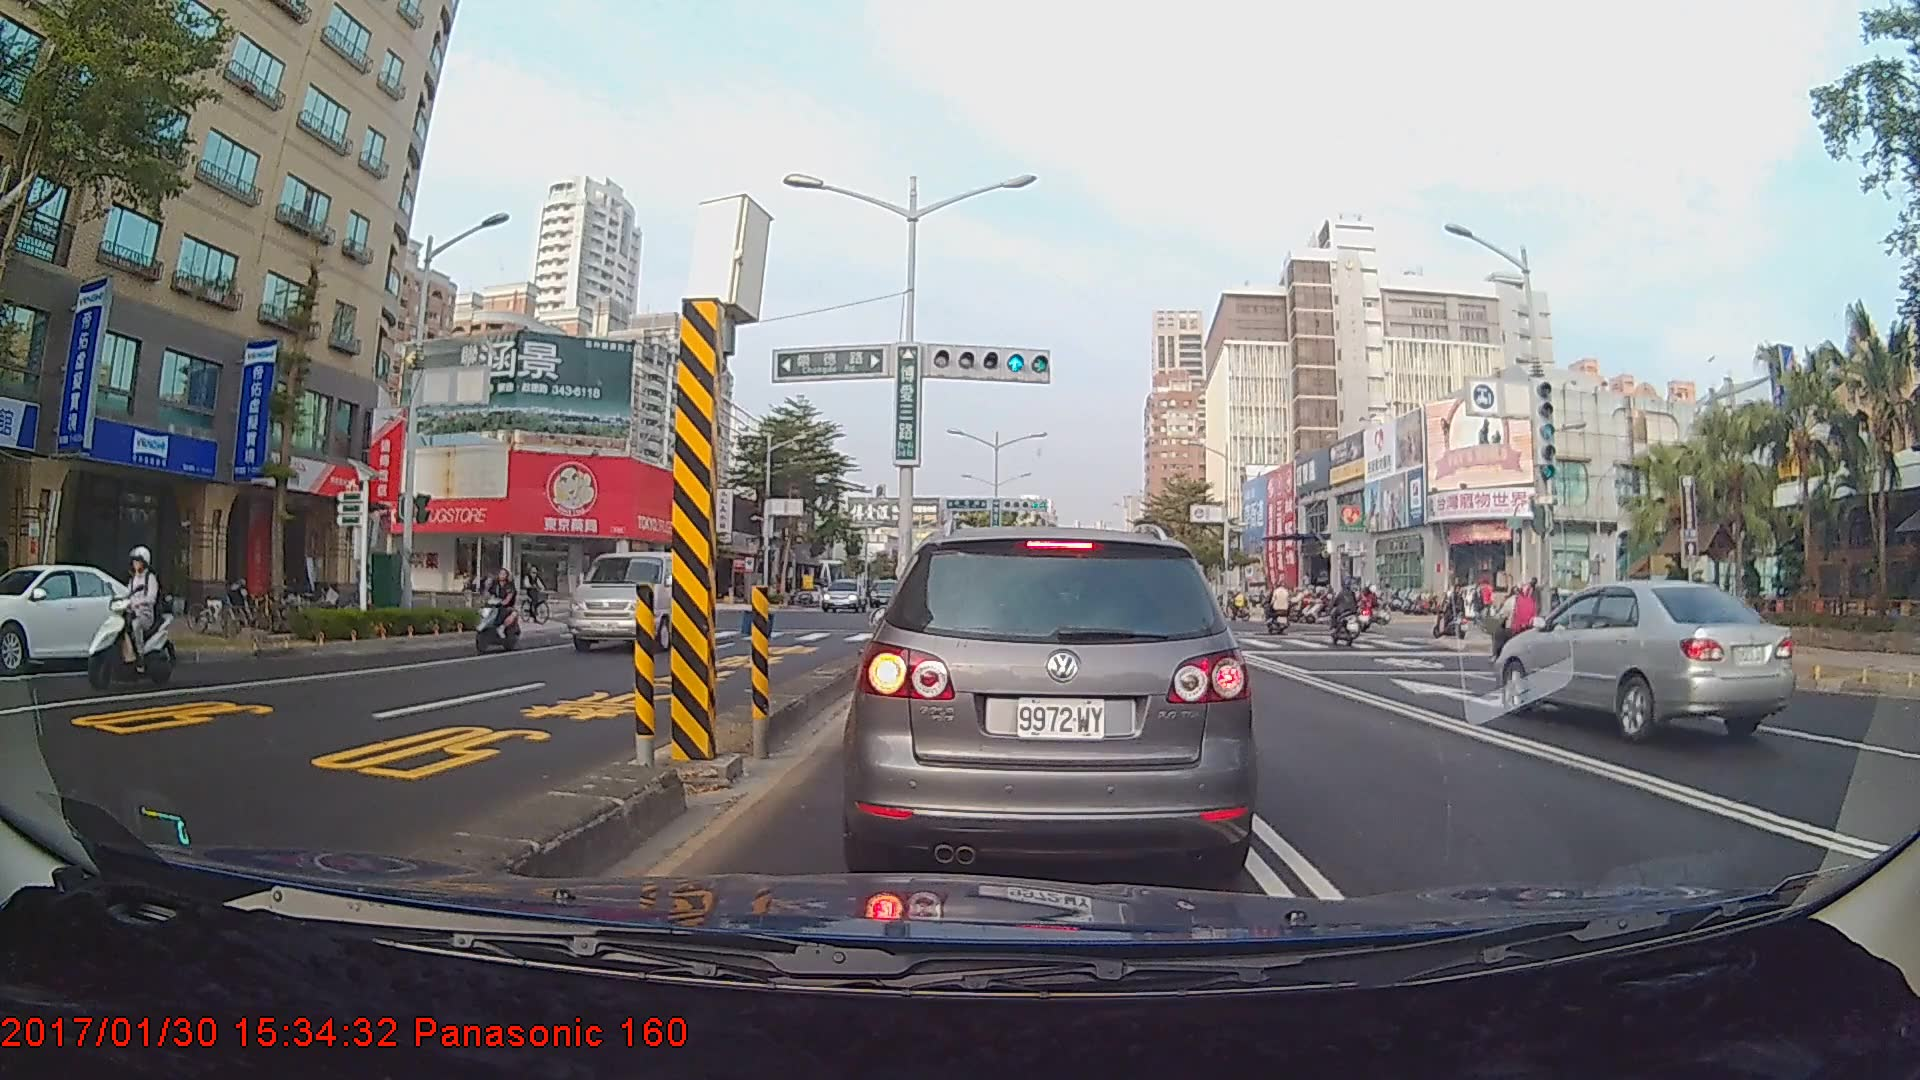rider: (80, 547, 181, 693), (1485, 582, 1548, 668), (468, 564, 528, 654), (1322, 580, 1370, 649), (518, 559, 561, 629), (1436, 582, 1473, 646), (1264, 582, 1300, 634)
vehicle: (855, 522, 1255, 877), (1491, 578, 1798, 745), (0, 561, 157, 671), (569, 548, 720, 656), (816, 578, 869, 612)
